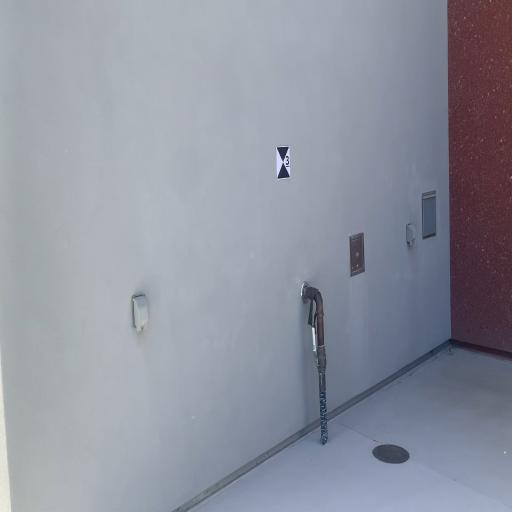target3: (276, 145, 291, 180)
